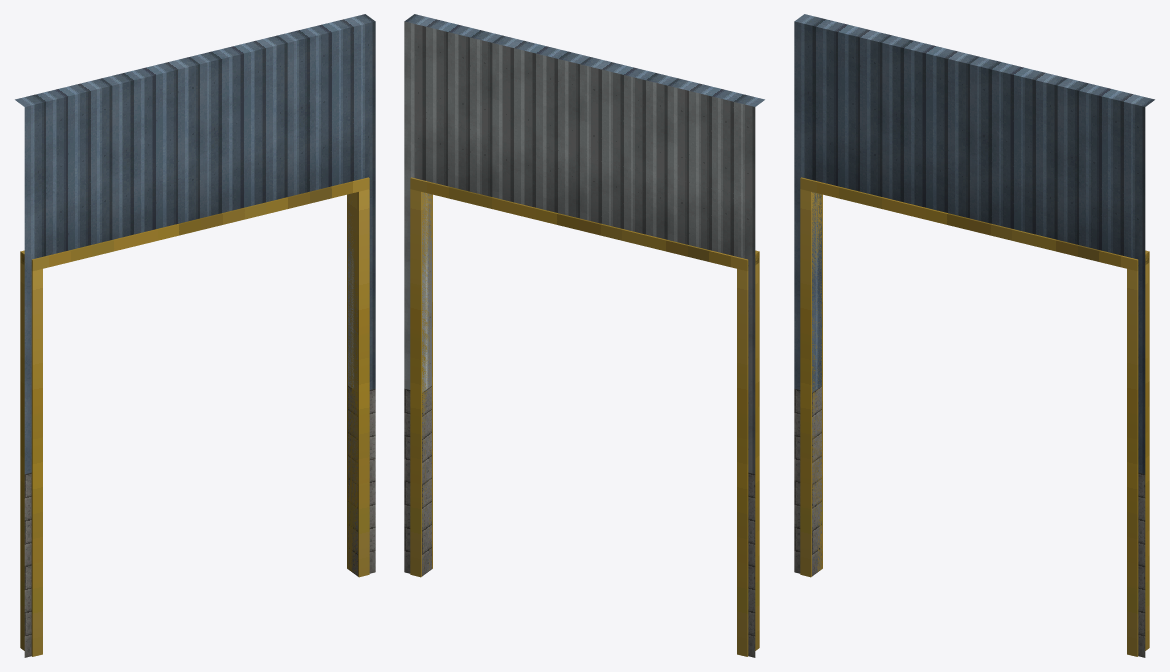
The model's file is wall_bay.glb.
3 renders of one model, left to right at view 1: azimuth 30°, elevation 25°; view 2: azimuth 150°, elevation 25°; view 3: azimuth 330°, elevation 25°, orthographic.
Parts seen in each view (by area): view 1: wall_bay; view 2: wall_bay; view 3: wall_bay.
Part boxes in pixels (x1,y1,x2,y2): wall_bay: (15,14,375,657); wall_bay: (404,14,764,657); wall_bay: (794,14,1154,657).
Bounding box in the file's own units: 4 × 6 × 0.24.
3 materials, 3 textured.
